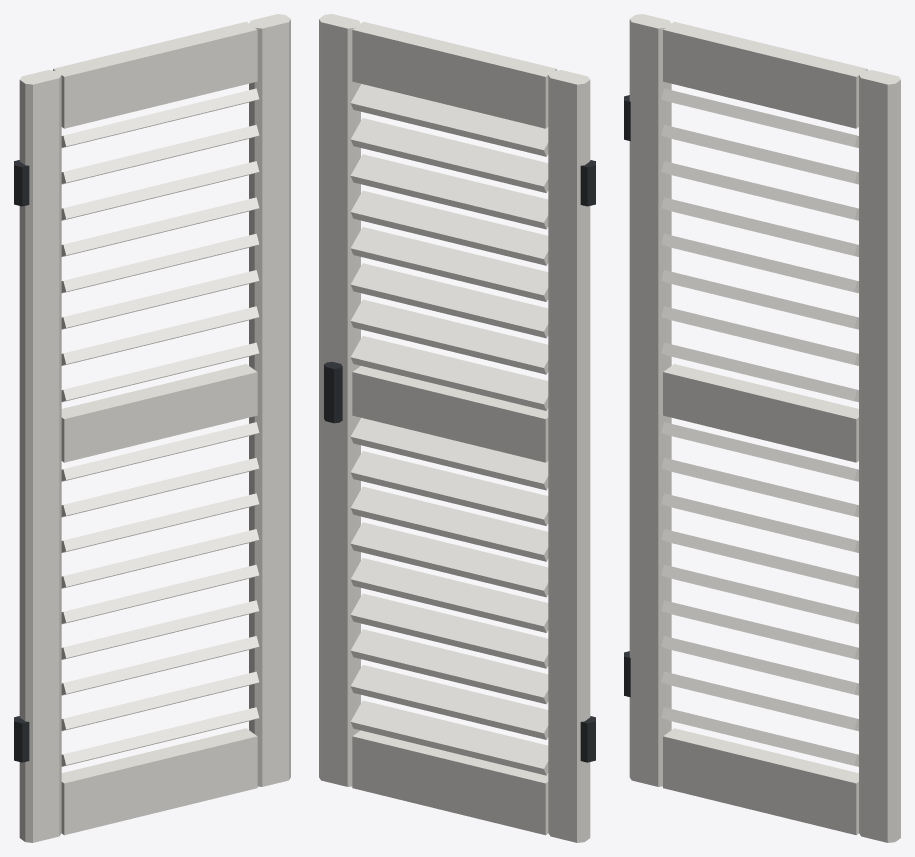
File: SM_LPI_Open_Shutter_01.fbx
3 views of the same model, side by side, from view 1: azimuth 30°, elevation 25°; view 2: azimuth 150°, elevation 25°; view 3: azimuth 330°, elevation 25° (orthographic).
Visible parts, largest first — view 1: SM_LPI_Open_Shutter_01; view 2: SM_LPI_Open_Shutter_01; view 3: SM_LPI_Open_Shutter_01.
Part boxes in pixels (<box>): SM_LPI_Open_Shutter_01: <box>14,14,290,842</box>; SM_LPI_Open_Shutter_01: <box>319,14,595,842</box>; SM_LPI_Open_Shutter_01: <box>624,14,900,842</box>.
Bounding box in the file's own units: 0.454 × 1.2 × 0.0573.
